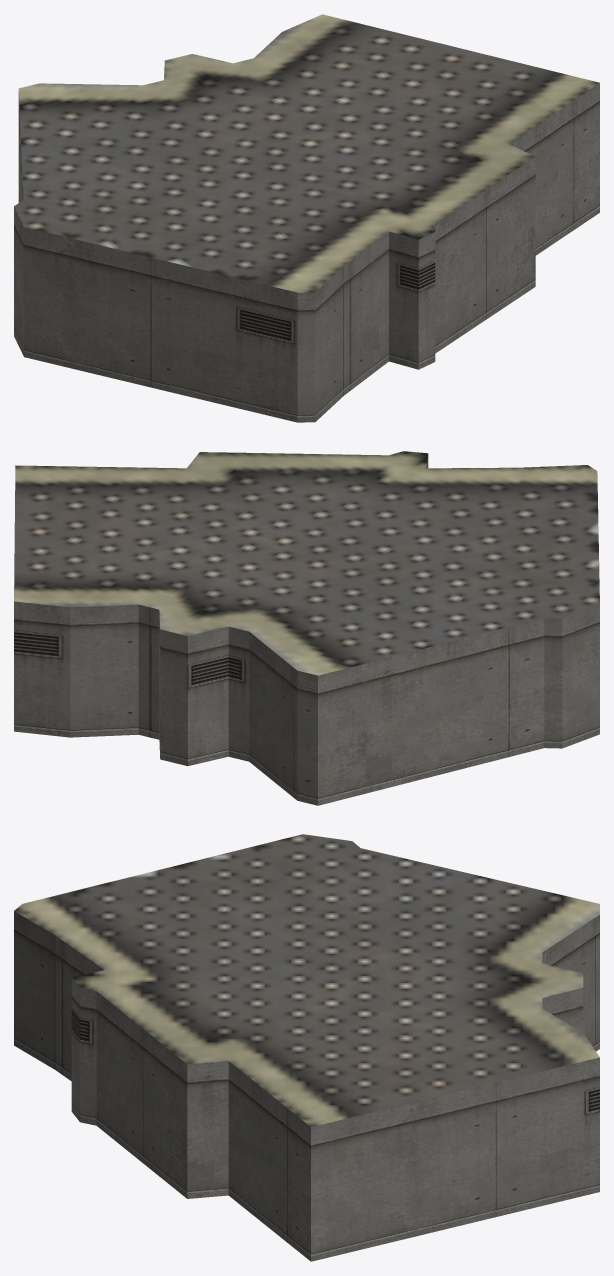
The model's file is building_medium_a_50.glb.
3 views of the same model, one above another, from view 1: azimuth 30°, elevation 25°; view 2: azimuth 150°, elevation 25°; view 3: azimuth 270°, elevation 25° (orthographic). The views are drawn at different scales.
Visible parts, largest first — view 1: buildings/saxarba/building_medium/building_medium_a_50; view 2: buildings/saxarba/building_medium/building_medium_a_50; view 3: buildings/saxarba/building_medium/building_medium_a_50.
Part boxes in pixels (x1,y1,x2,y2): buildings/saxarba/building_medium/building_medium_a_50: (14,14,599,422); buildings/saxarba/building_medium/building_medium_a_50: (14,451,599,805); buildings/saxarba/building_medium/building_medium_a_50: (14,834,599,1261).
Size of the model in its own units: 84 by 18 by 71.
